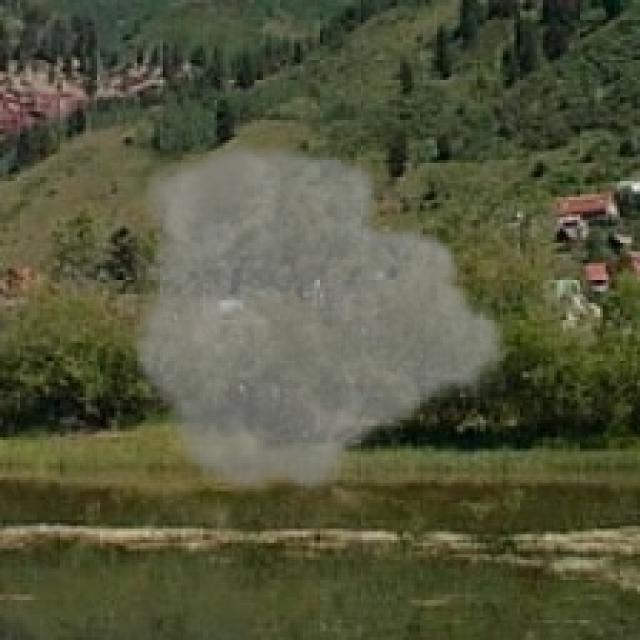smoke: (129, 137, 517, 503)
